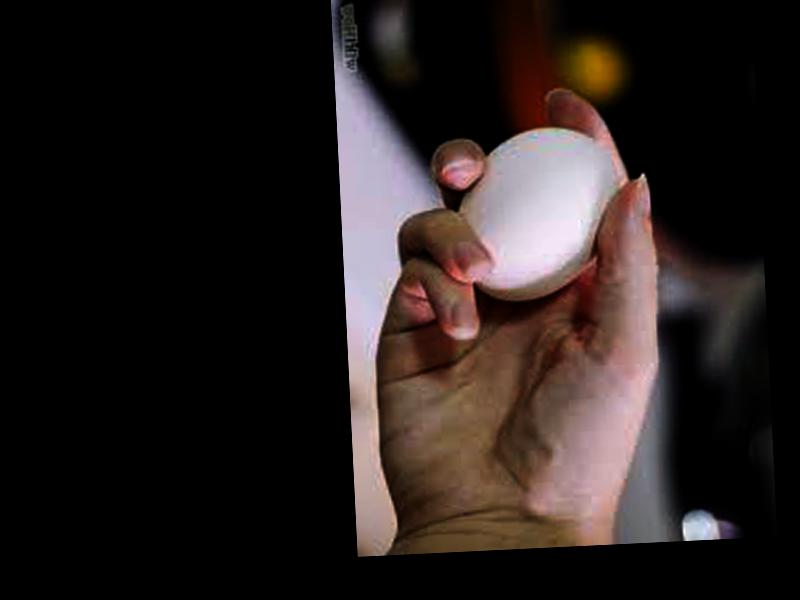Eggs: (456, 122, 622, 302)
